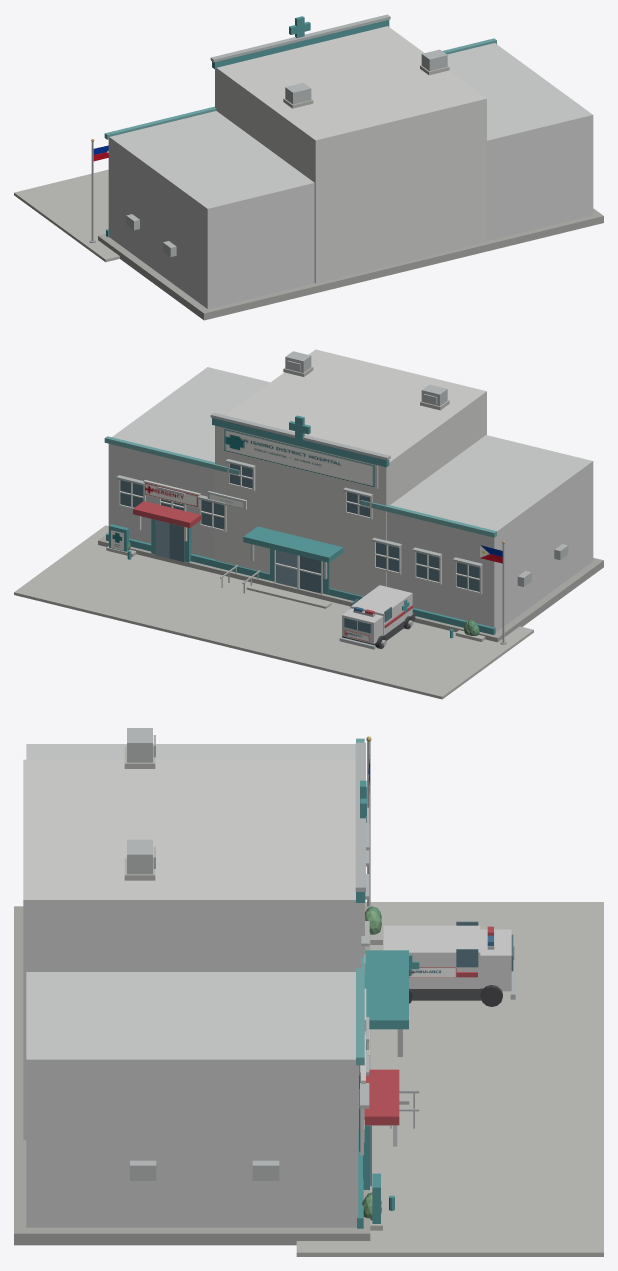
The model's file is Philippine_District_Hospital.glb.
The picture shows the model from 3 angles, top to bottom: view 1: azimuth 30°, elevation 25°; view 2: azimuth 150°, elevation 25°; view 3: azimuth 270°, elevation 25°; orthographic projection. The views are drawn at different scales.
Parts seen in each view (by area): view 1: Hospital_Central_Block, Hospital_Left_Wing, Hospital_Right_Wing, Hospital_Foundation, Hospital_Driveway, Hospital_Central_Roof_Parapet, Hospital_Central_Roof_Cap, Hospital_Left_Cornice, Hospital_Roof_AC_Unit_2, Hospital_Roof_AC_Unit_1; view 2: Hospital_Central_Block, Hospital_Driveway, Hospital_Left_Wing, Hospital_Right_Wing, Hospital_Name_Sign_Text, Hospital_Foundation, Hospital_Main_Entrance_Canopy, Ambulance_Main_Body, Hospital_Central_Roof_Parapet, Hospital_Central_Roof_Cap, Emergency_Canopy, Hospital_Left_Cornice (+15 smaller); view 3: Hospital_Right_Wing, Hospital_Central_Block, Hospital_Driveway, Hospital_Foundation, Hospital_Left_Wing, Ambulance_Main_Body, Hospital_Main_Entrance_Canopy, Emergency_Canopy, Ambulance_Cab, Hospital_Central_Roof_Cap, Hospital_Roof_AC_Unit_2, Hospital_Right_Cornice (+2 smaller).
Part boxes in pixels (x1=…): Hospital_Central_Block: x1=215, y1=26, x2=486, y2=283; Hospital_Left_Wing: x1=108, y1=111, x2=314, y2=308; Hospital_Right_Wing: x1=447, y1=43, x2=593, y2=240; Hospital_Foundation: x1=98, y1=208, x2=603, y2=320; Hospital_Driveway: x1=14, y1=169, x2=119, y2=262; Hospital_Central_Roof_Parapet: x1=212, y1=20, x2=389, y2=69; Hospital_Central_Roof_Cap: x1=210, y1=14, x2=390, y2=62; Hospital_Left_Cornice: x1=104, y1=106, x2=216, y2=139; Hospital_Roof_AC_Unit_2: x1=421, y1=49, x2=447, y2=71; Hospital_Roof_AC_Unit_1: x1=285, y1=83, x2=311, y2=104; Hospital_Central_Block: x1=215, y1=349, x2=486, y2=596; Hospital_Driveway: x1=14, y1=525, x2=533, y2=699; Hospital_Left_Wing: x1=387, y1=435, x2=593, y2=632; Hospital_Right_Wing: x1=108, y1=367, x2=270, y2=559; Hospital_Name_Sign_Text: x1=223, y1=428, x2=374, y2=487; Hospital_Foundation: x1=98, y1=535, x2=603, y2=642; Hospital_Main_Entrance_Canopy: x1=243, y1=526, x2=343, y2=562; Ambulance_Main_Body: x1=351, y1=585, x2=412, y2=635; Hospital_Central_Roof_Parapet: x1=212, y1=418, x2=389, y2=467; Hospital_Central_Roof_Cap: x1=210, y1=412, x2=390, y2=460; Emergency_Canopy: x1=133, y1=501, x2=200, y2=527; Hospital_Left_Cornice: x1=360, y1=500, x2=496, y2=537; Hospital_Right_Wing: x1=26, y1=972, x2=358, y2=1227; Hospital_Central_Block: x1=23, y1=759, x2=361, y2=1139; Hospital_Driveway: x1=296, y1=902, x2=603, y2=1256; Hospital_Foundation: x1=14, y1=906, x2=370, y2=1245; Hospital_Left_Wing: x1=26, y1=744, x2=355, y2=759; Ambulance_Main_Body: x1=383, y1=925, x2=480, y2=988; Hospital_Main_Entrance_Canopy: x1=364, y1=950, x2=408, y2=1029; Emergency_Canopy: x1=364, y1=1069, x2=399, y2=1125; Ambulance_Cab: x1=480, y1=929, x2=511, y2=991; Hospital_Central_Roof_Cap: x1=355, y1=742, x2=365, y2=891; Hospital_Roof_AC_Unit_2: x1=127, y1=839, x2=152, y2=874; Hospital_Right_Cornice: x1=356, y1=957, x2=364, y2=1065.
Size of the model in its own units: 27 by 10.7 by 19.2.
7 materials, 7 textured.
